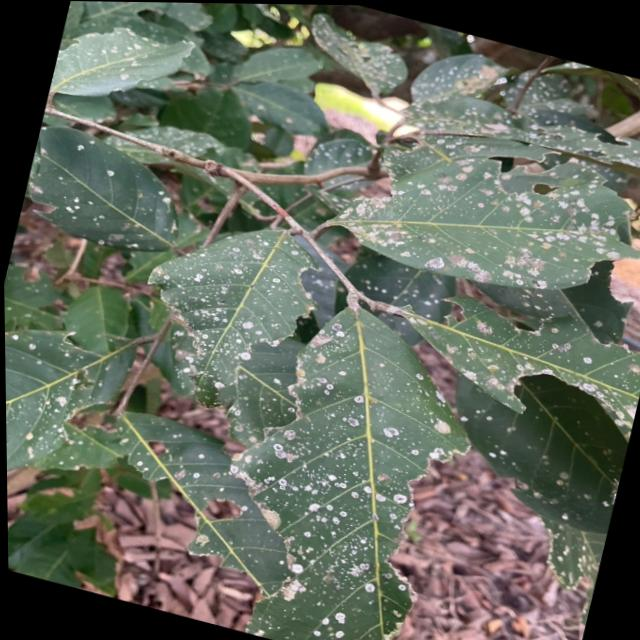Algal Leaf Spot: (95, 204, 506, 640), (297, 26, 640, 310), (22, 128, 172, 263), (4, 318, 104, 496)
